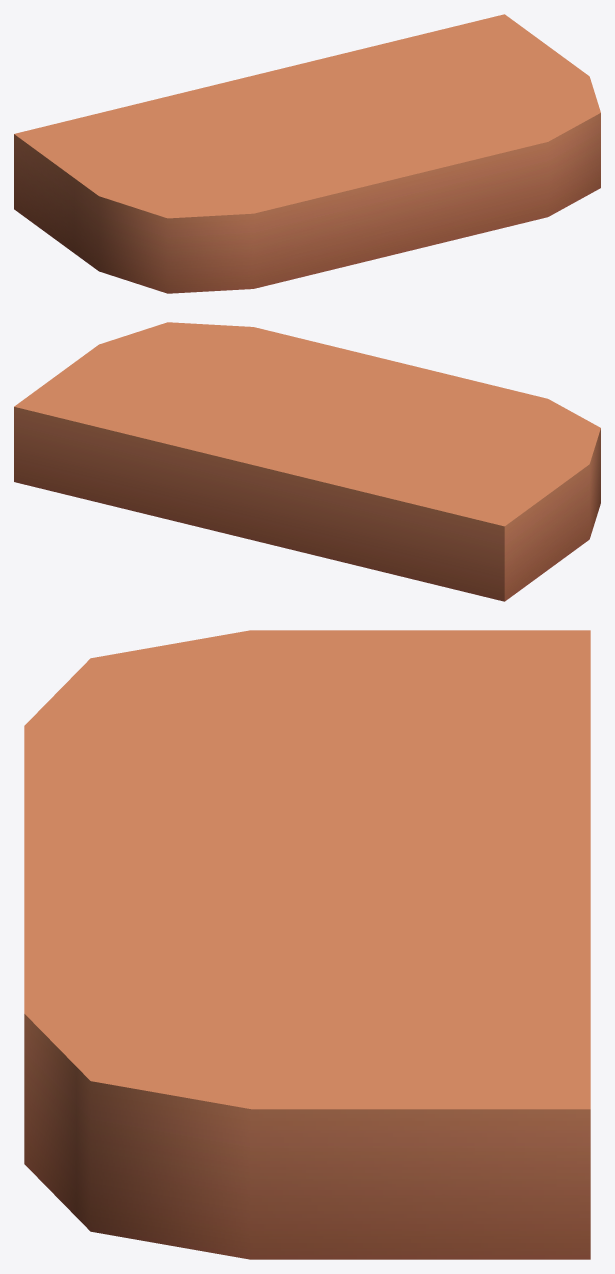
The model's file is block-borders.glb.
3 views of the same model, one above another, from view 1: azimuth 30°, elevation 25°; view 2: azimuth 150°, elevation 25°; view 3: azimuth 270°, elevation 25° (orthographic). The views are drawn at different scales.
Visible parts, largest first — view 1: block-borders; view 2: block-borders; view 3: block-borders.
Boxes of the visible parts, left/top/right/bottom form: block-borders: left=14, top=14, right=600, bottom=293; block-borders: left=14, top=322, right=600, bottom=601; block-borders: left=24, top=630, right=590, bottom=1259.
Bounding box in the file's own units: 0.9999 × 0.1466 × 0.4999.
1 material, 1 textured.
